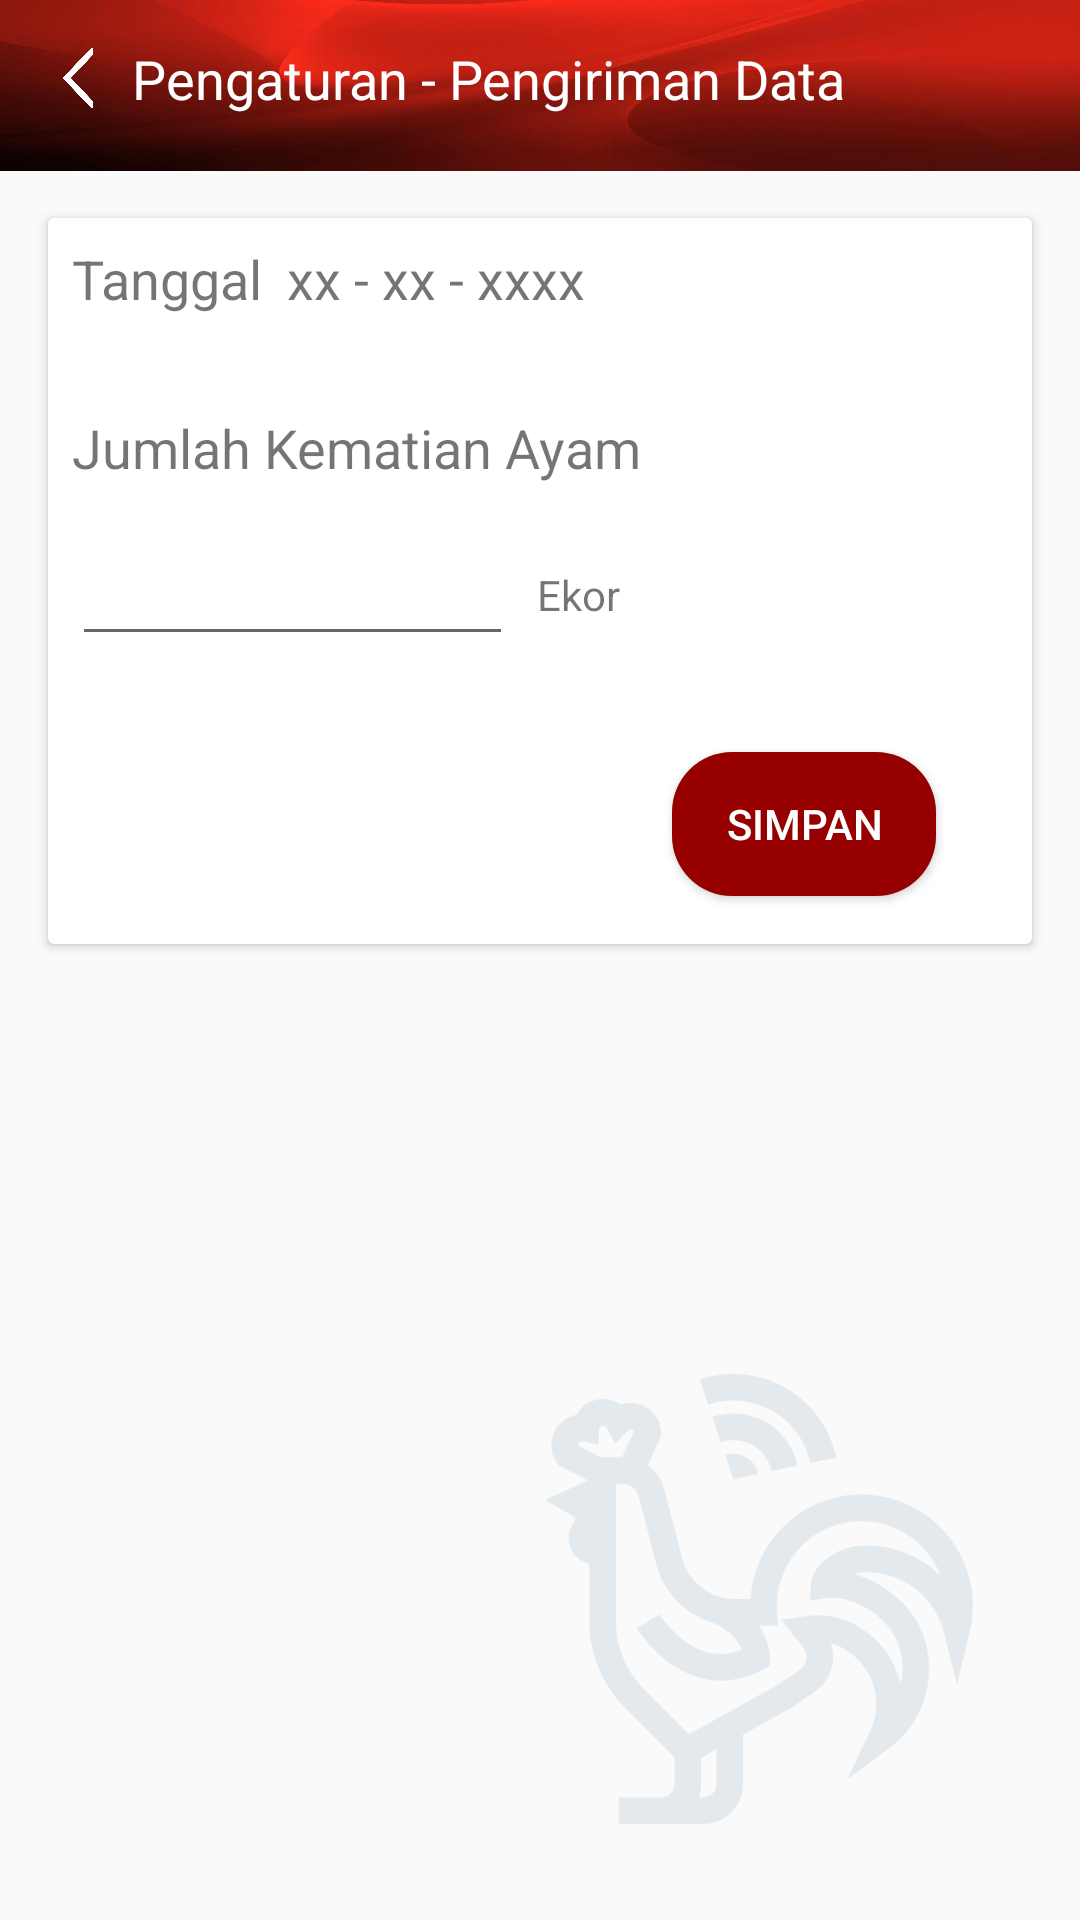

Named icons in this screenshot (1080*1920) and their centers, (x,y):
previous: (78,78)
